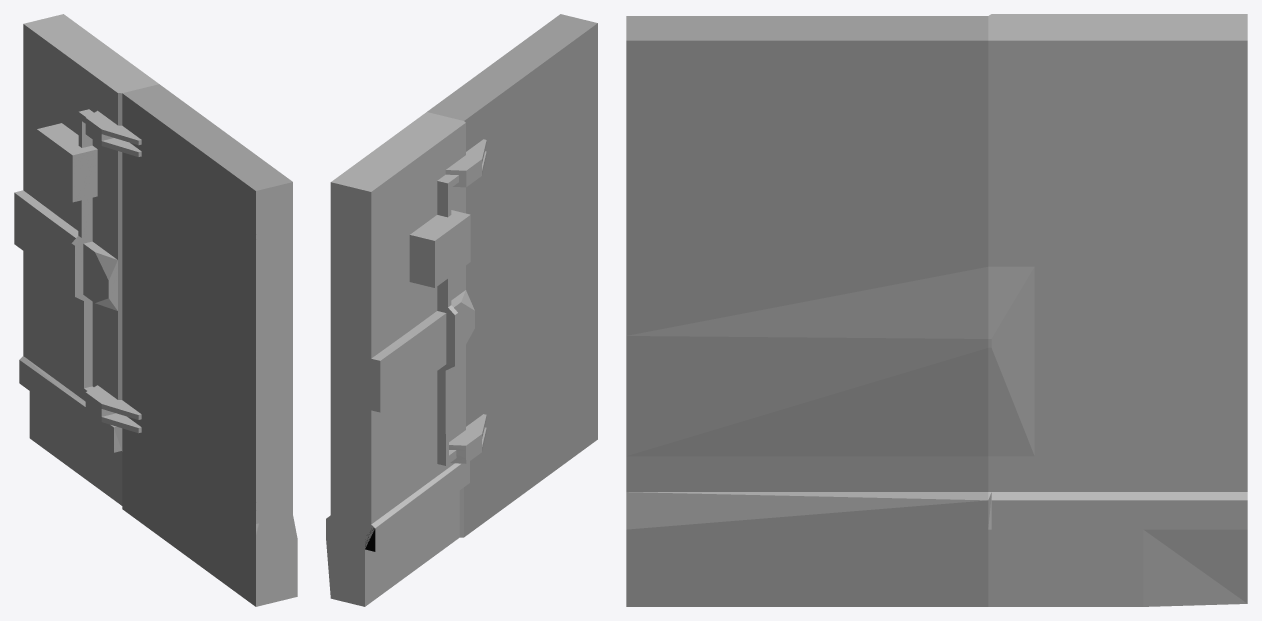
The model's file is ShieldGenOpposite.fbx.
3 renders of one model, left to right at view 1: azimuth 30°, elevation 25°; view 2: azimuth 150°, elevation 25°; view 3: azimuth 270°, elevation 25°, orthographic. The views are drawn at different scales.
Parts seen in each view (by area): view 1: pCube43; view 2: pCube43; view 3: pCube43.
Part boxes in pixels (box(x1,y1,x2,y2)): pCube43: box(14, 14, 297, 606); pCube43: box(326, 14, 597, 606); pCube43: box(626, 14, 1247, 606).
Size of the model in its own units: 176 by 1000 by 1000.
